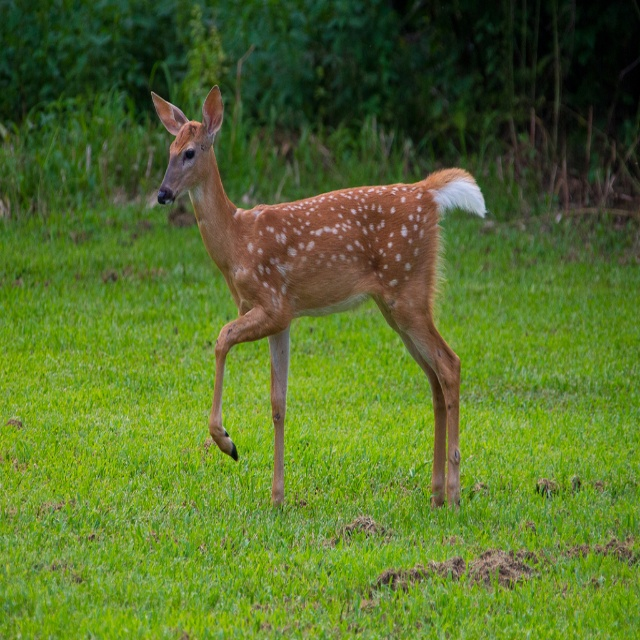Deer: (152, 83, 490, 509)
